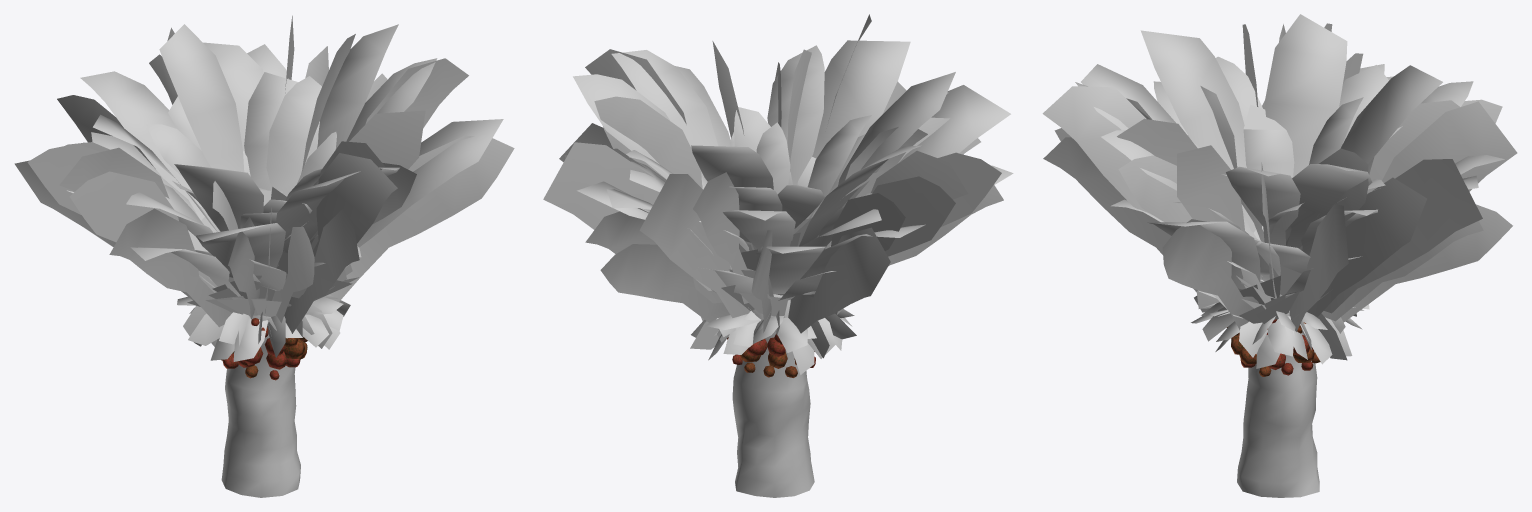
File: Tree6_3_L1.fbx
The picture shows the model from 3 angles, left to right: view 1: azimuth 30°, elevation 25°; view 2: azimuth 150°, elevation 25°; view 3: azimuth 270°, elevation 25°; orthographic projection. The views are drawn at different scales.
Visible parts, largest first — view 1: polySurface92; view 2: polySurface92; view 3: polySurface92.
Boxes of the visible parts, x1,y1,x2,y2 form: polySurface92: (14,15,514,497); polySurface92: (543,14,1013,497); polySurface92: (1042,14,1517,497).
Size of the model in its own units: 689 by 637 by 682.
